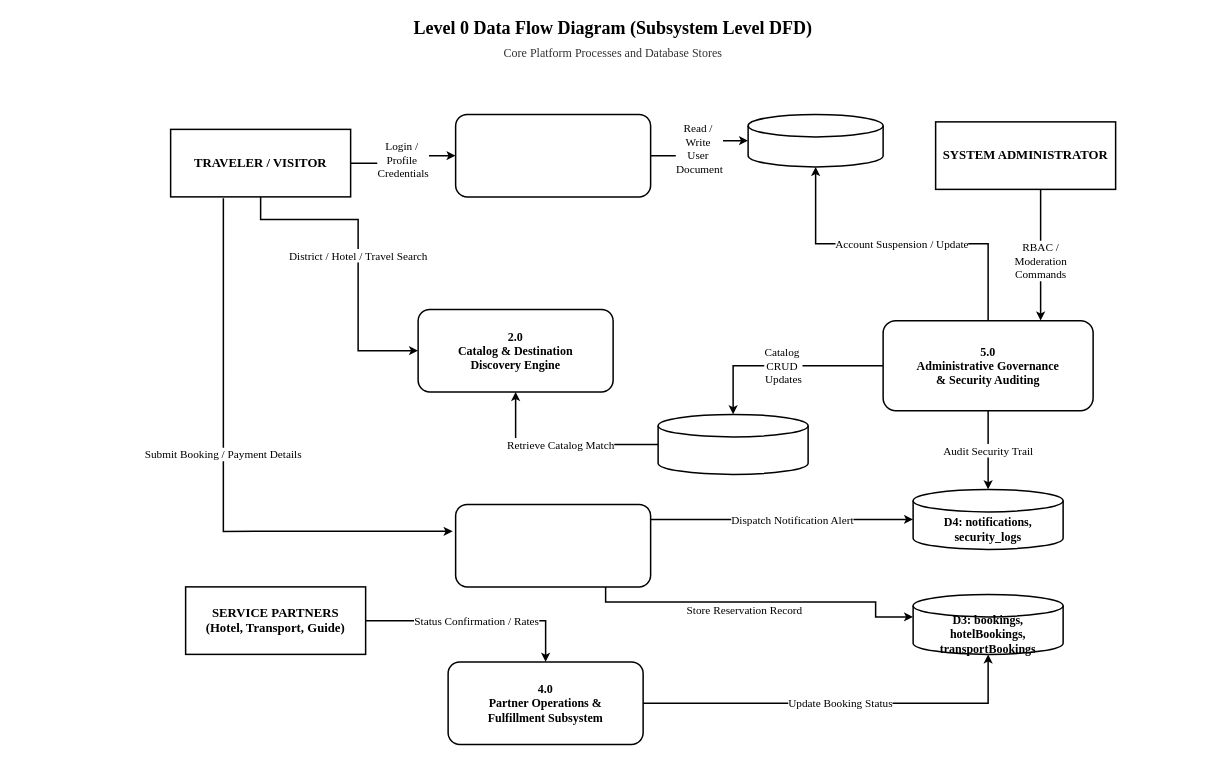
Image size: 1226x758. Some labels were removed from this diagram. The centre of each missing label's shape, as x and y in pixels:
"1.0 User Authentication & Profile Management" belongs at point (552, 155).
"3.0 Multi-Service Reservation & Booking Engine" belongs at point (552, 545).
"D1: users" belongs at point (815, 140).
"D2: districts, attractions, hotels, transportations" belongs at point (732, 444).
